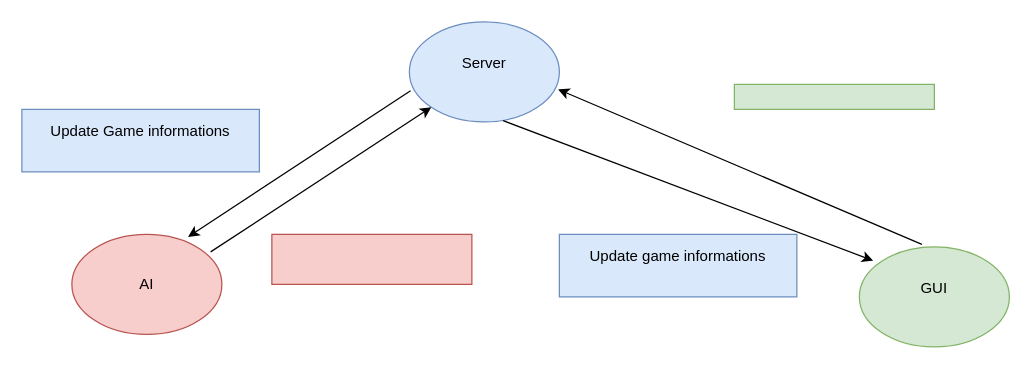
The diagram is 1031 pixels wide and 369 high, and some of its shapes have lost their labels. The shapes that lost their labels are listed below. From the top down, each one's centre as x and y in pixels, then its label:
the point at 833,96: Request data update
the point at 371,258: Send AI Actions
